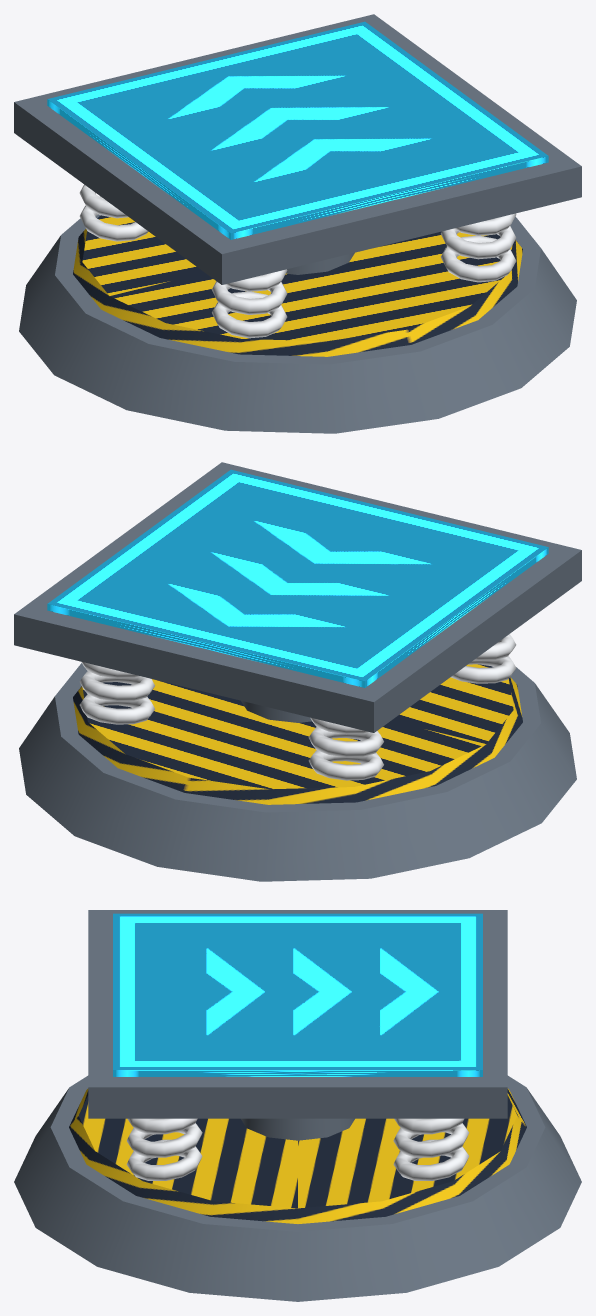
File: jump_pad_spring.glb
The picture shows the model from 3 angles, top to bottom: view 1: azimuth 30°, elevation 25°; view 2: azimuth 150°, elevation 25°; view 3: azimuth 270°, elevation 25°; orthographic projection.
Visible parts, largest first — view 1: pad_pivot, jump_pad_spring; view 2: pad_pivot, jump_pad_spring; view 3: jump_pad_spring, pad_pivot.
Boxes of the visible parts, x1=… form: pad_pivot: x1=14, y1=14, x2=581, y2=284; jump_pad_spring: x1=19, y1=184, x2=576, y2=433; pad_pivot: x1=14, y1=462, x2=581, y2=732; jump_pad_spring: x1=19, y1=634, x2=576, y2=881; jump_pad_spring: x1=14, y1=1075, x2=581, y2=1301; pad_pivot: x1=88, y1=910, x2=507, y2=1118.
Bounding box in the file's own units: 2.64 × 0.975 × 2.64.
4 materials, 2 textured.
